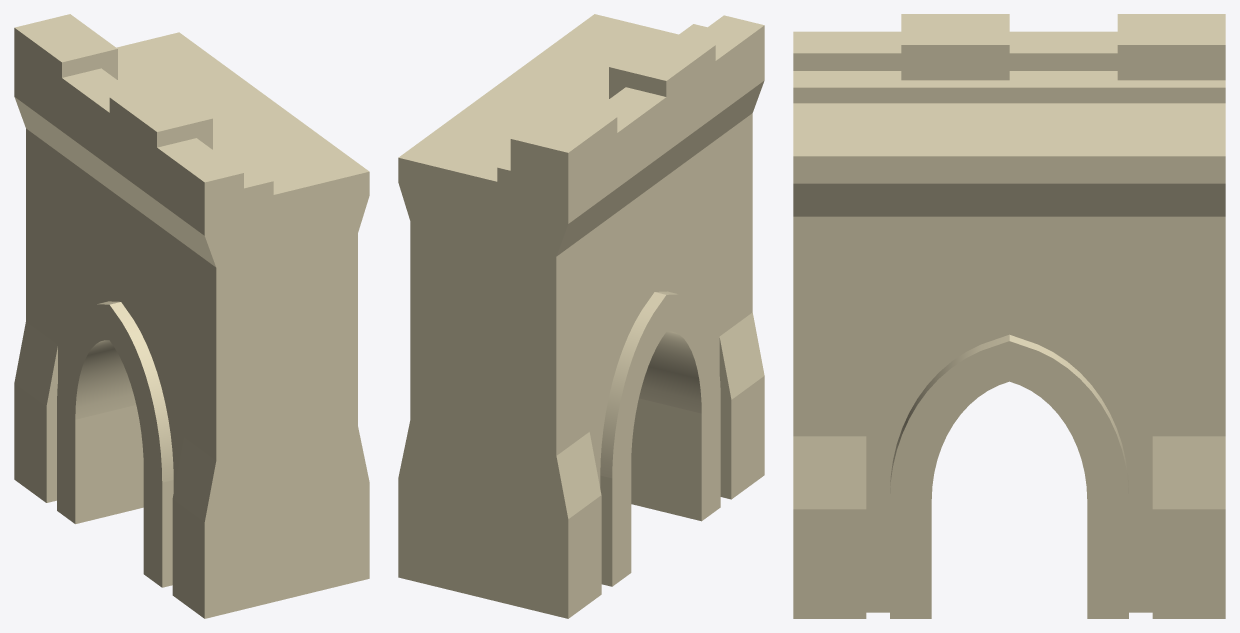
File: wallDoor.fbx
3 views of the same model, side by side, from view 1: azimuth 30°, elevation 25°; view 2: azimuth 150°, elevation 25°; view 3: azimuth 270°, elevation 25° (orthographic). The views are drawn at different scales.
Parts seen in each view (by area): view 1: wallDoor; view 2: wallDoor; view 3: wallDoor.
Part boxes in pixels (bbox=[...]): wallDoor: bbox=[14, 14, 369, 618]; wallDoor: bbox=[398, 14, 764, 618]; wallDoor: bbox=[793, 14, 1225, 618].
Size of the model in its own units: 5 by 13.1 by 10.
